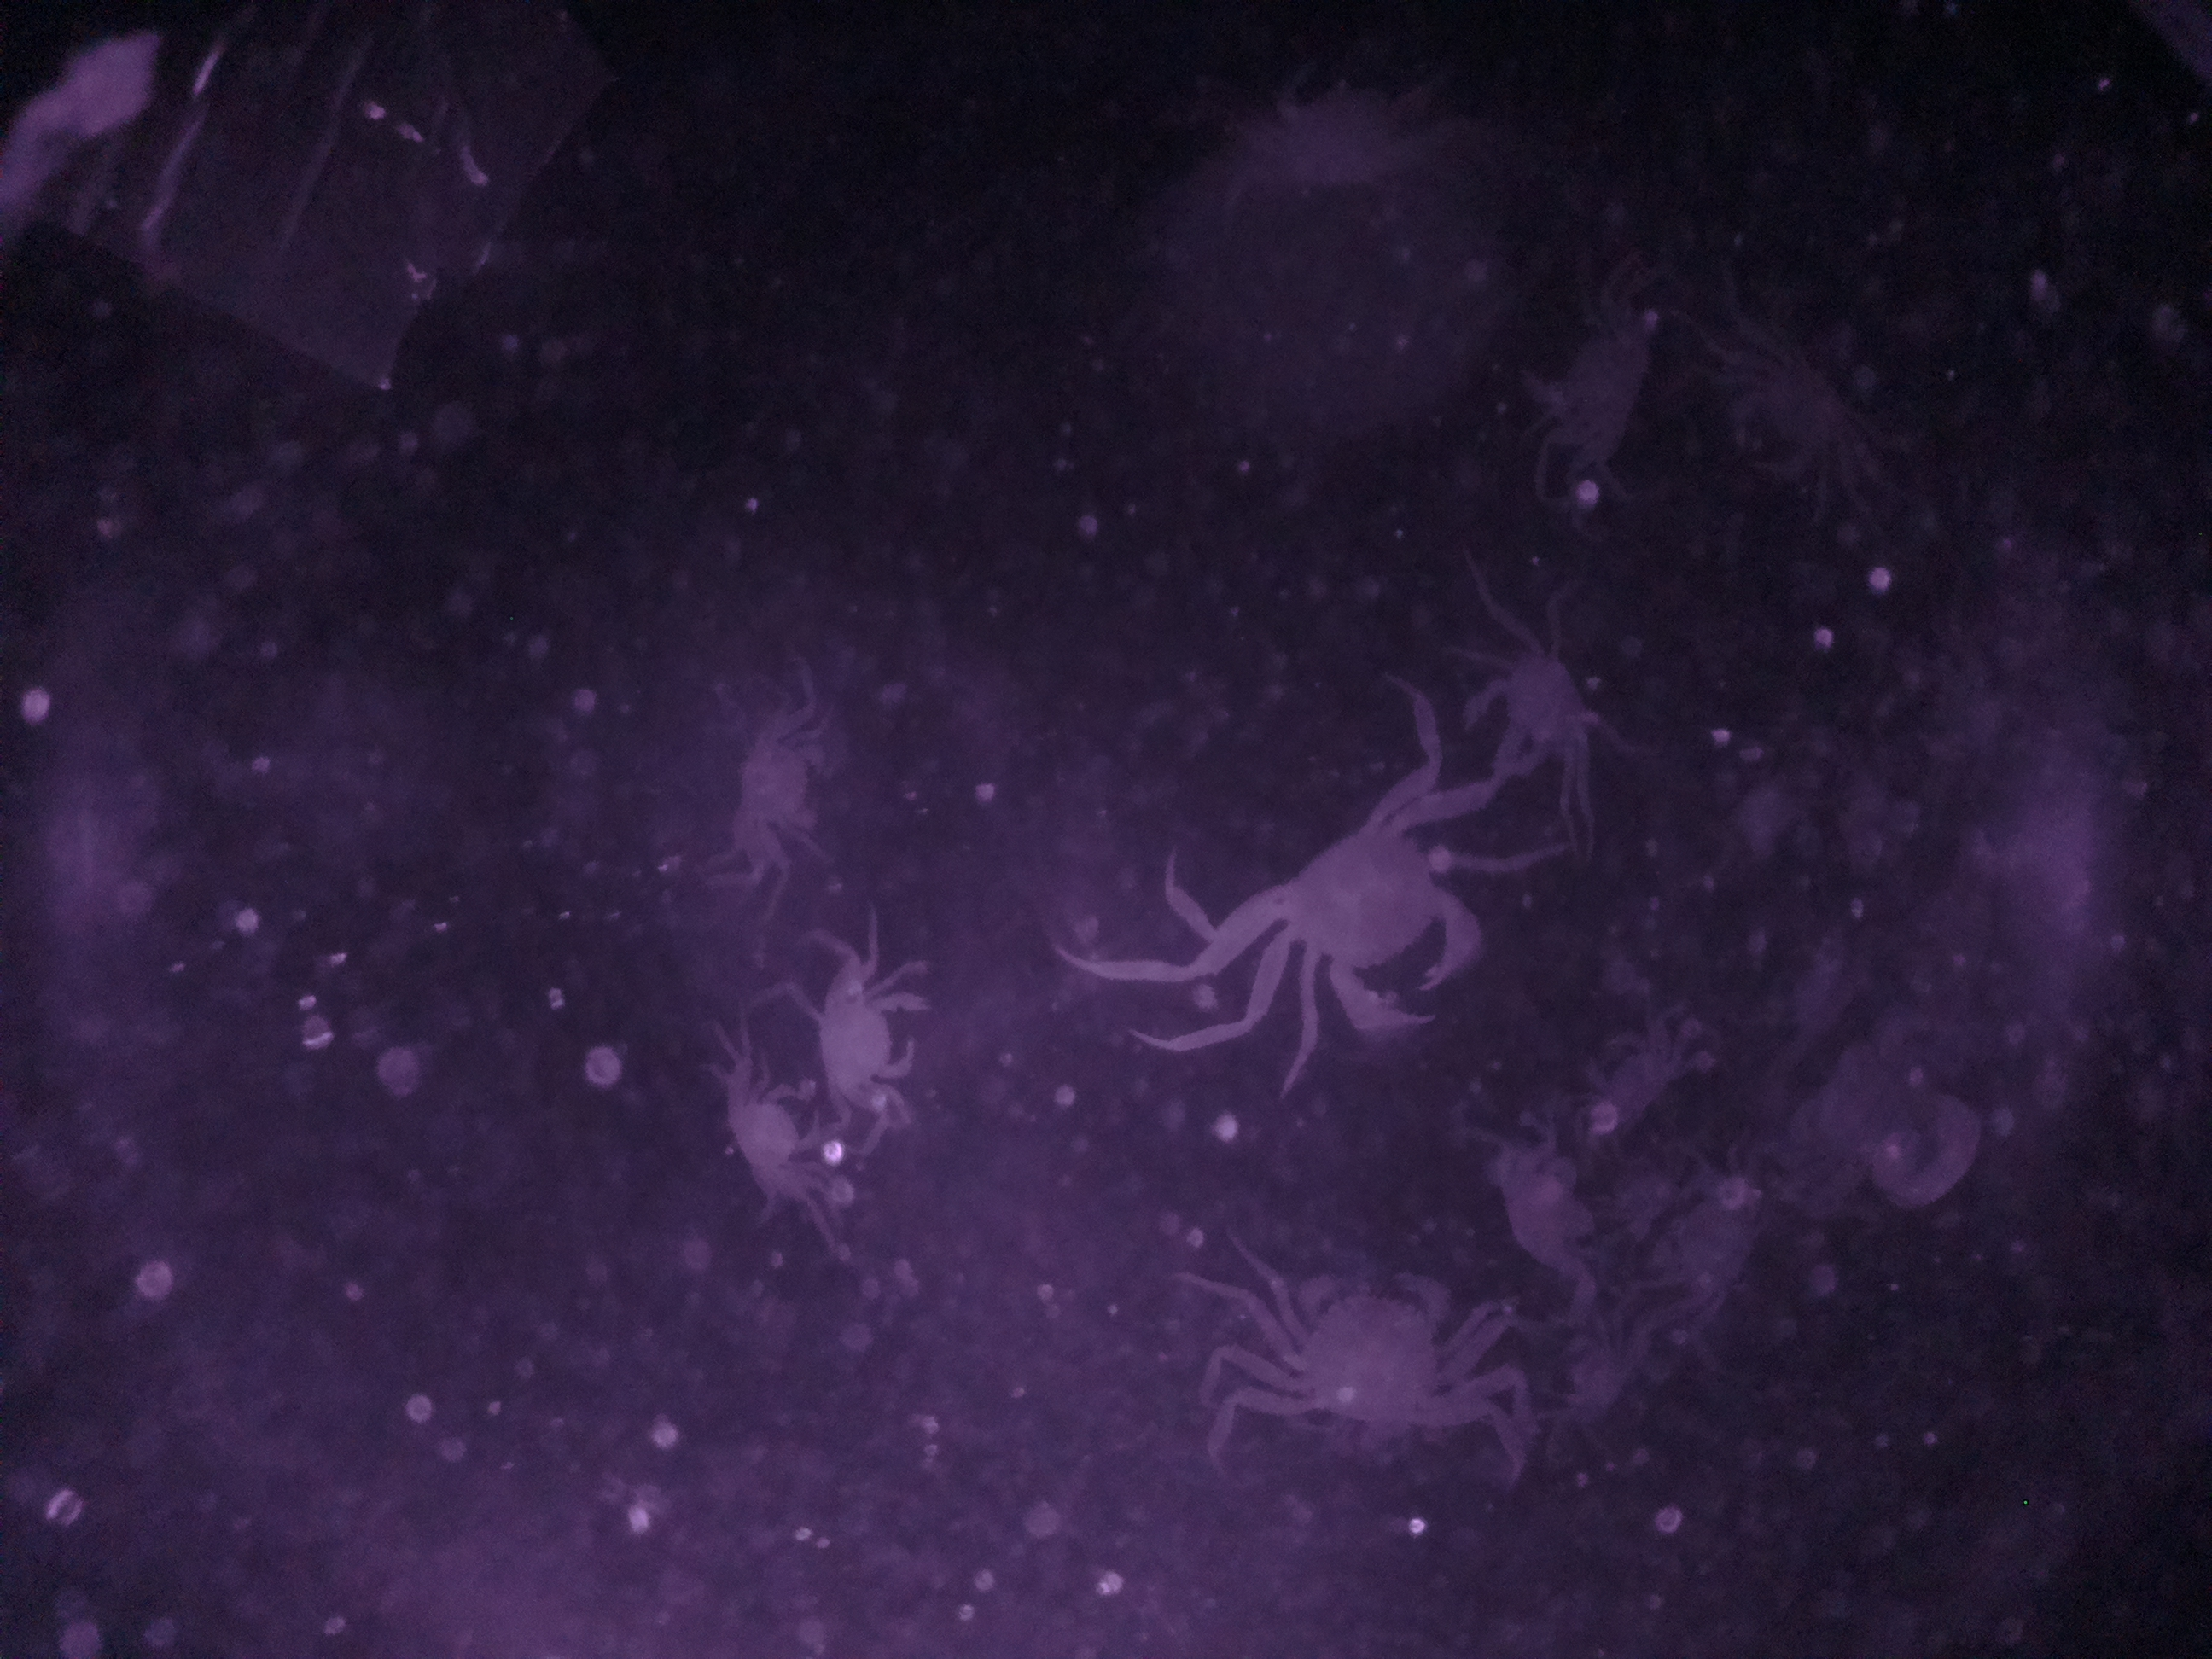Crab: (1233, 788, 1501, 1044), (1238, 1258, 1484, 1441), (1456, 619, 1622, 802), (798, 960, 942, 1133), (723, 685, 834, 885), (711, 1047, 834, 1225), (1480, 1119, 1599, 1288)
